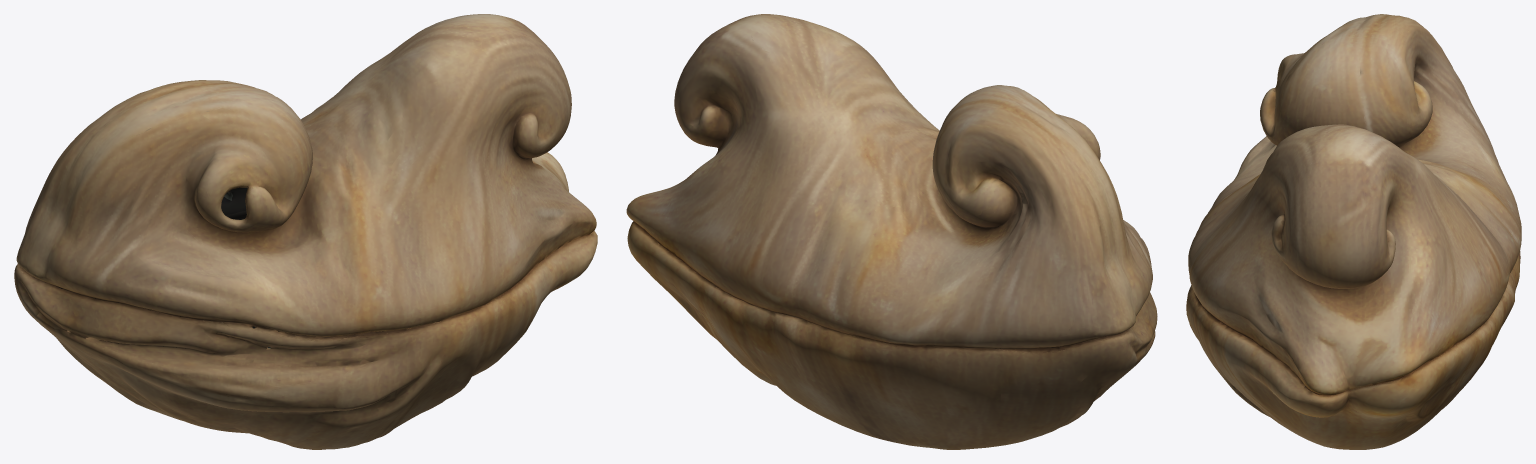
The picture shows the model from 3 angles, left to right: view 1: azimuth 30°, elevation 25°; view 2: azimuth 150°, elevation 25°; view 3: azimuth 270°, elevation 25°; orthographic projection. The views are drawn at different scales.
Parts seen in each view (by area): view 1: world; view 2: world; view 3: world.
Part boxes in pixels (<box>): world: <box>14,14,597,449</box>; world: <box>626,14,1157,449</box>; world: <box>1186,14,1521,449</box>.
Size of the model in its own units: 0.1756 by 0.12 by 0.1033.
1 material, 1 textured.
